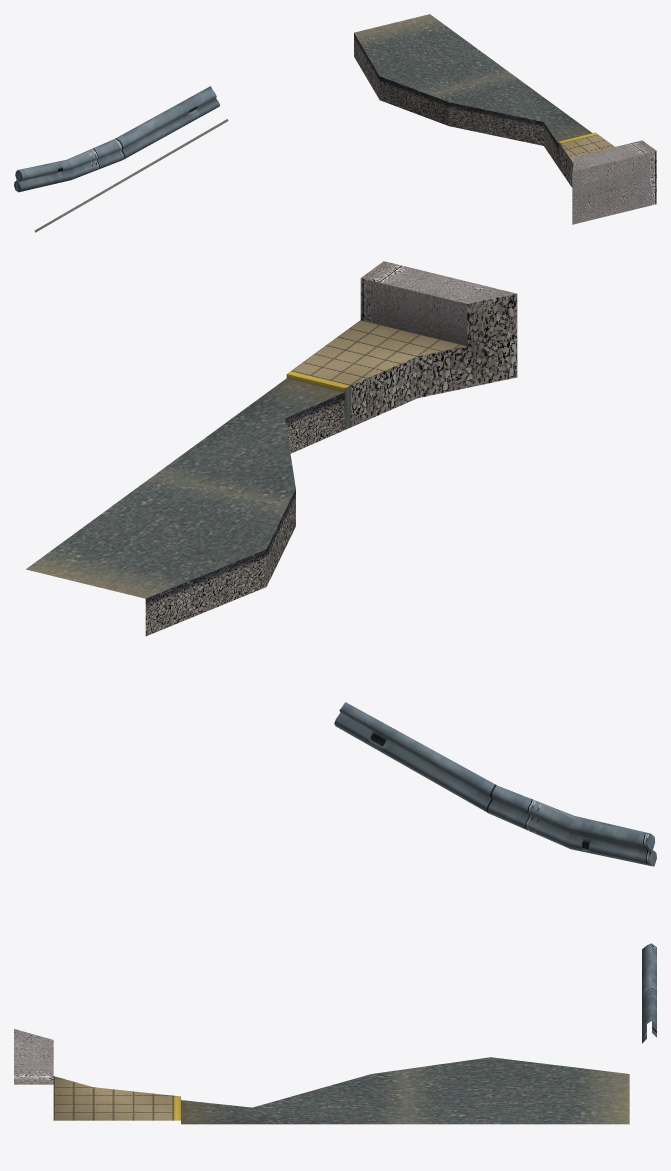
The model's file is M2_Zone4_FlyOver6.glb.
3 renders of one model, top to bottom at view 1: azimuth 30°, elevation 25°; view 2: azimuth 150°, elevation 25°; view 3: azimuth 270°, elevation 25°, orthographic. The views are drawn at different scales.
Visible parts, largest first — view 1: M2_ZONE4_FLYOVER6; view 2: M2_ZONE4_FLYOVER6; view 3: M2_ZONE4_FLYOVER6.
Boxes of the visible parts, x1,y1,x2,y2 form: M2_ZONE4_FLYOVER6: [14, 14, 656, 232]; M2_ZONE4_FLYOVER6: [26, 261, 656, 866]; M2_ZONE4_FLYOVER6: [14, 943, 656, 1124].
Size of the model in its own units: 16.02 by 5.72 by 16.19.
8 materials, 8 textured.
